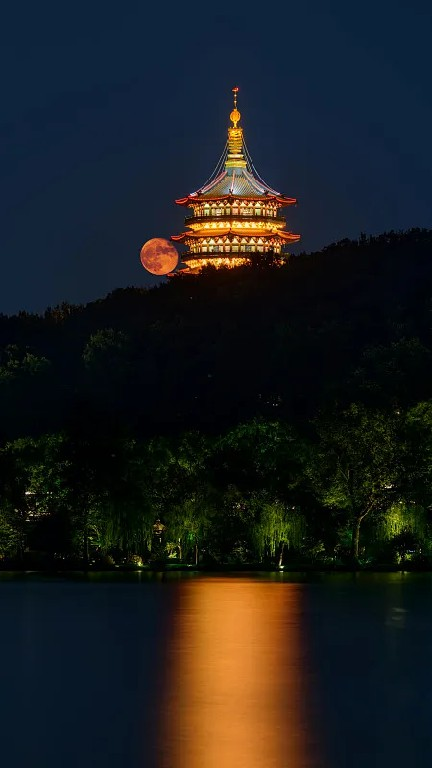Leifeng: (166, 81, 300, 278)
